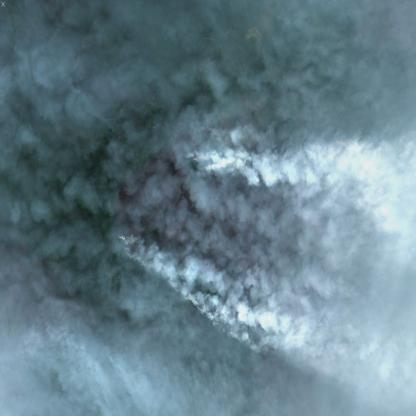fire: (161, 111, 341, 200), (117, 227, 241, 341)
